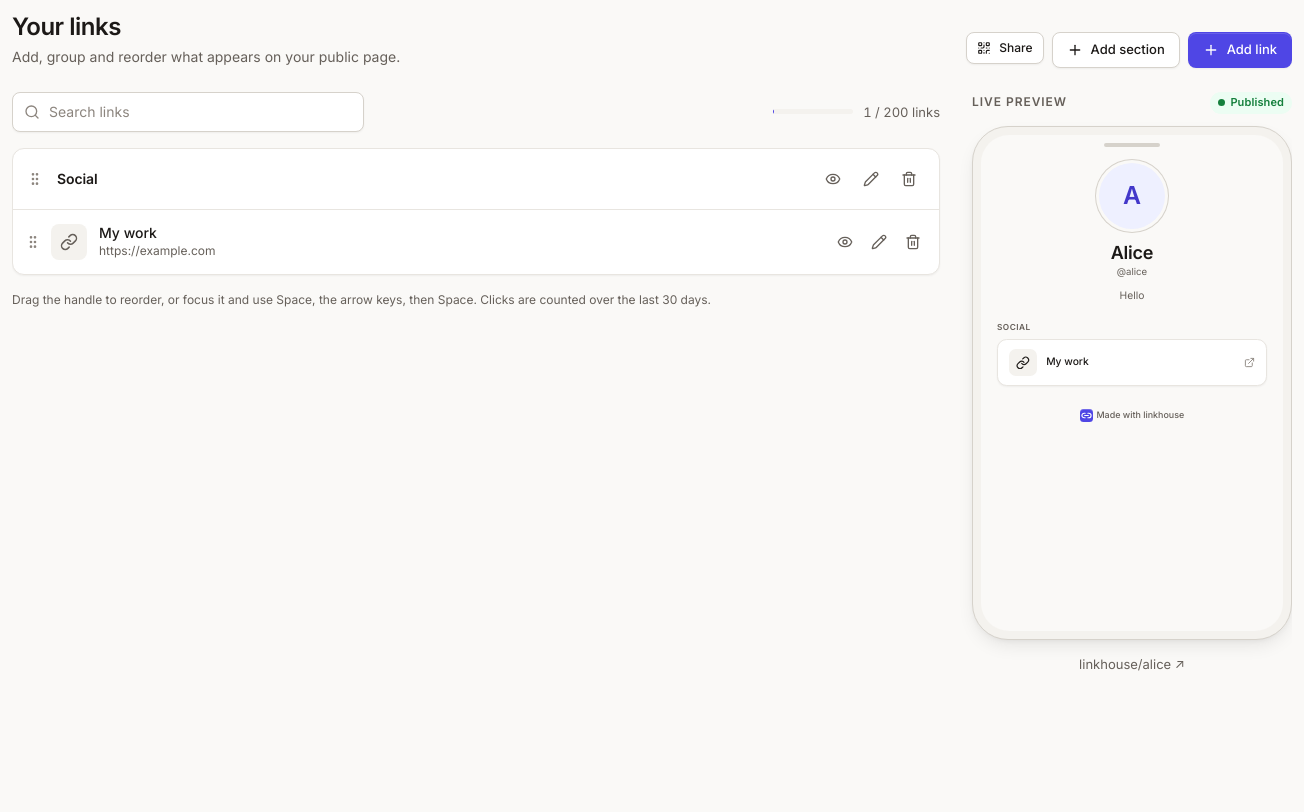
hides a section from the live preview
Click the button named "Hide section Social": {"x": 833, "y": 179} [815, 161, 851, 197]
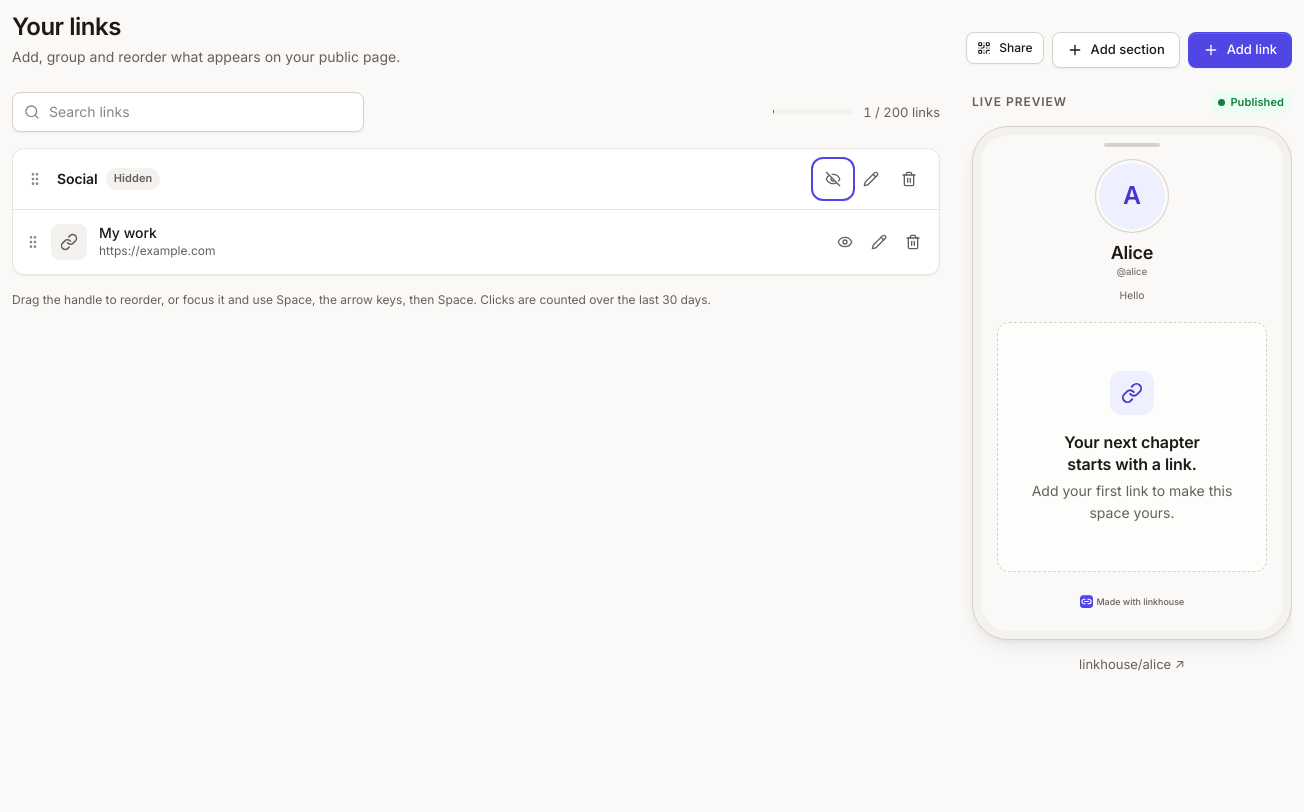
Check: the button named "Show section Social" is shown, box [815, 161, 851, 197]
